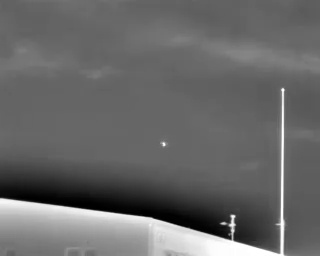HELICOPTER: (158, 138, 170, 150)
